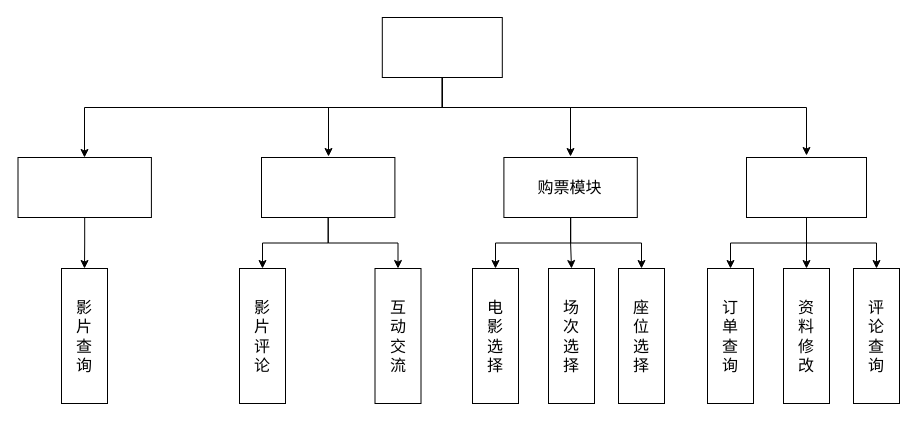
This 917x421 diagram has some shape labels left out. Here are the shapes that lost their labels. From the top down, the centre of each, then its label:
At point (441, 47): "前台用户模块".
At point (84, 187): "信息查询模块".
At point (327, 187): "点评模块".
At point (806, 187): "个人信息模块".
